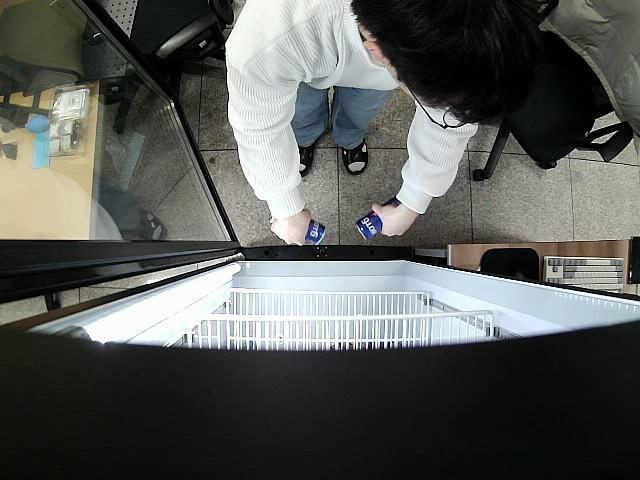16_hot6: (354, 196, 405, 243), (306, 220, 326, 245)
